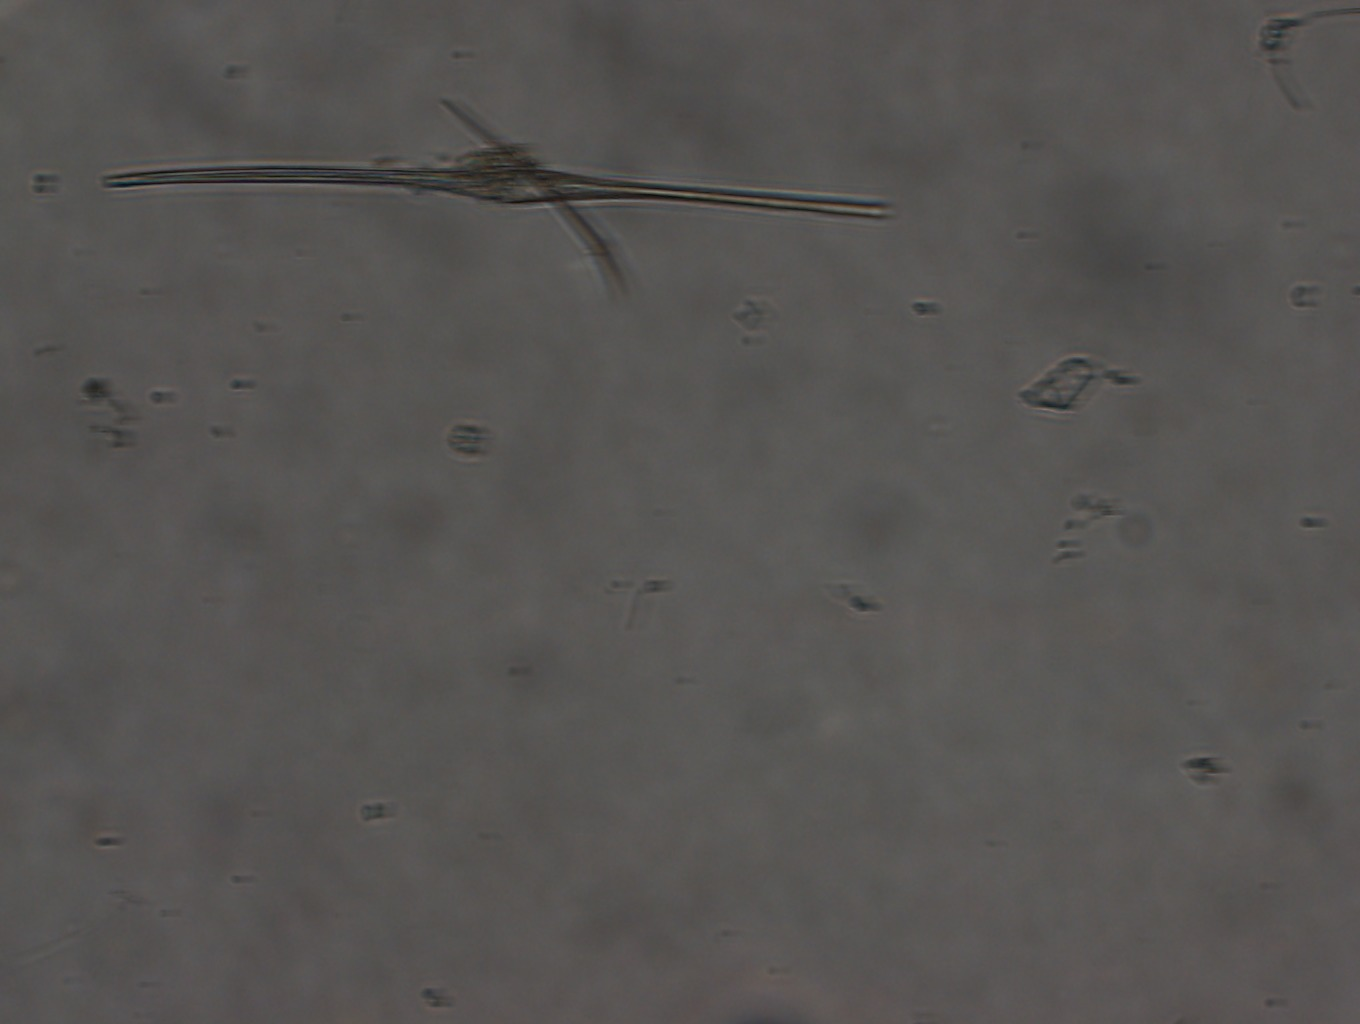ceratium fusus: (96, 124, 894, 229)
